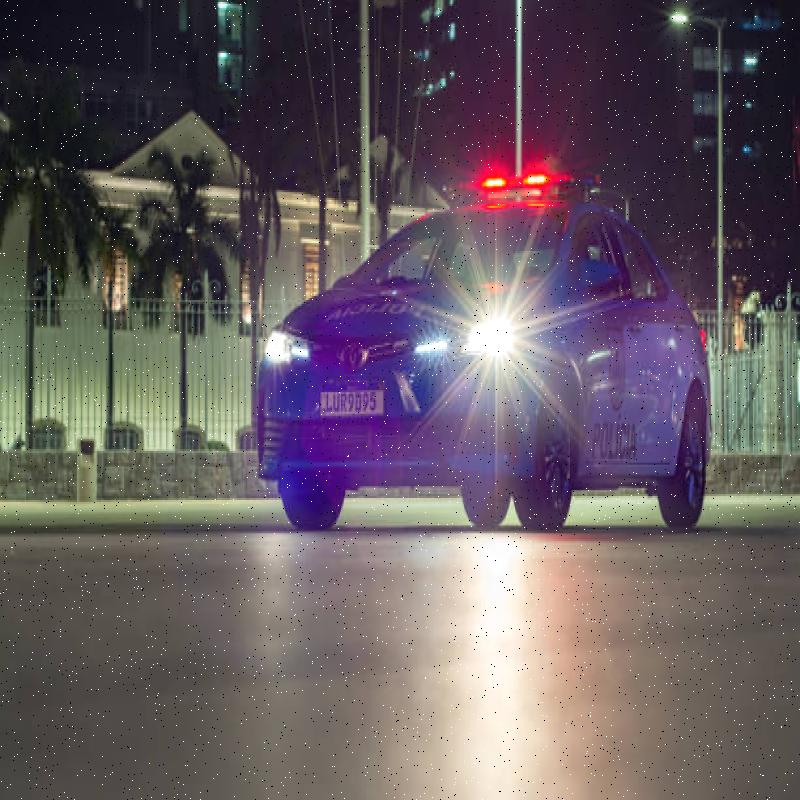AmbulanceSiren: (443, 163, 584, 207)
